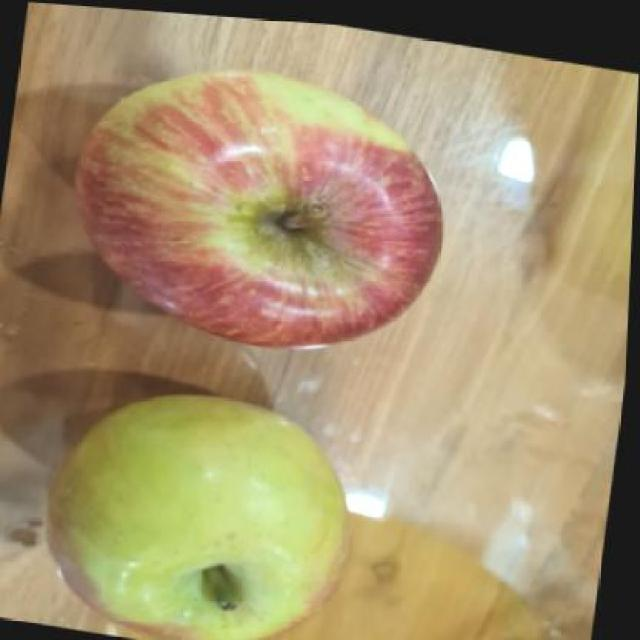Fresh Apple: (72, 74, 443, 350), (46, 391, 373, 640)
